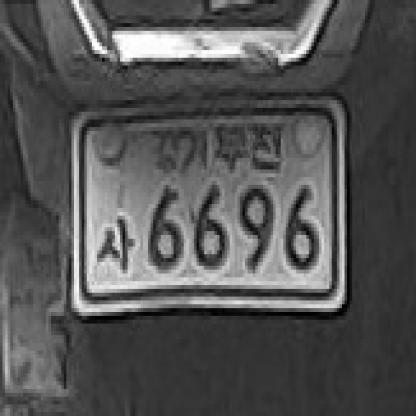bnum: (63, 106, 354, 321)
